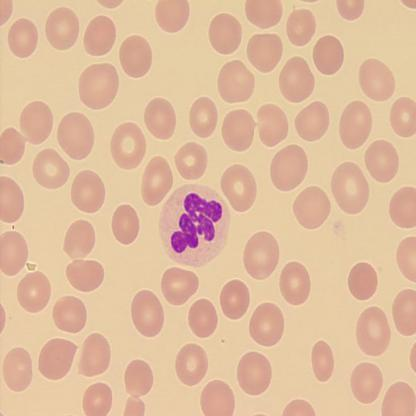Segmented neutrophil: (156, 181, 232, 268)
